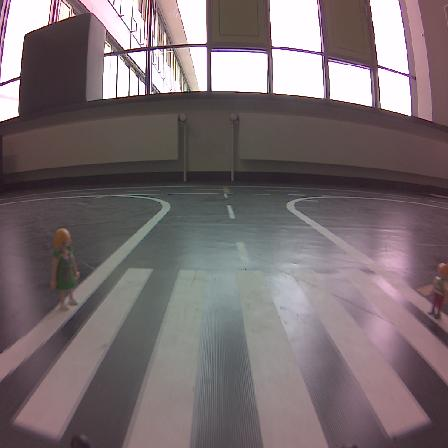CHILD: (428, 263, 447, 318)
PERSON: (51, 228, 79, 309)
